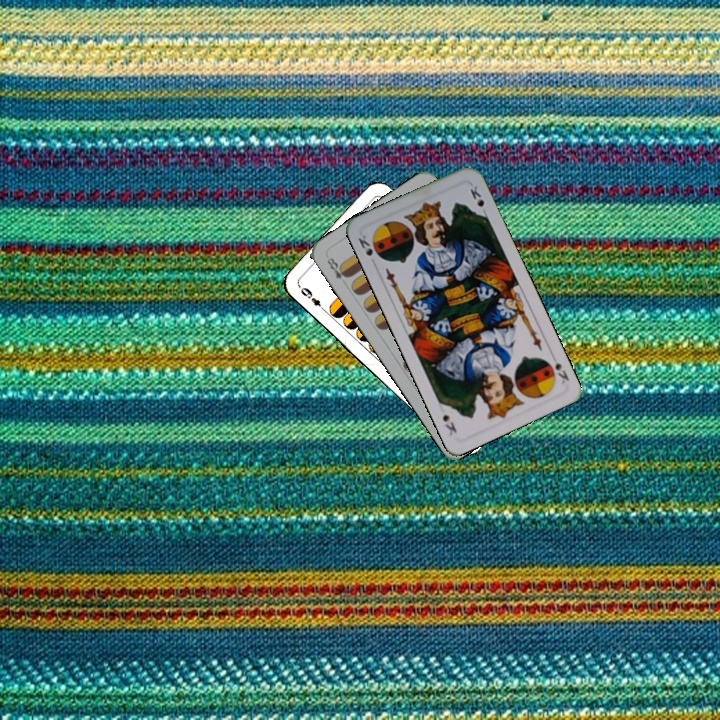E8: (323, 254, 352, 288)
E9: (296, 283, 328, 314)
SK: (354, 231, 384, 263), (547, 350, 572, 386)
